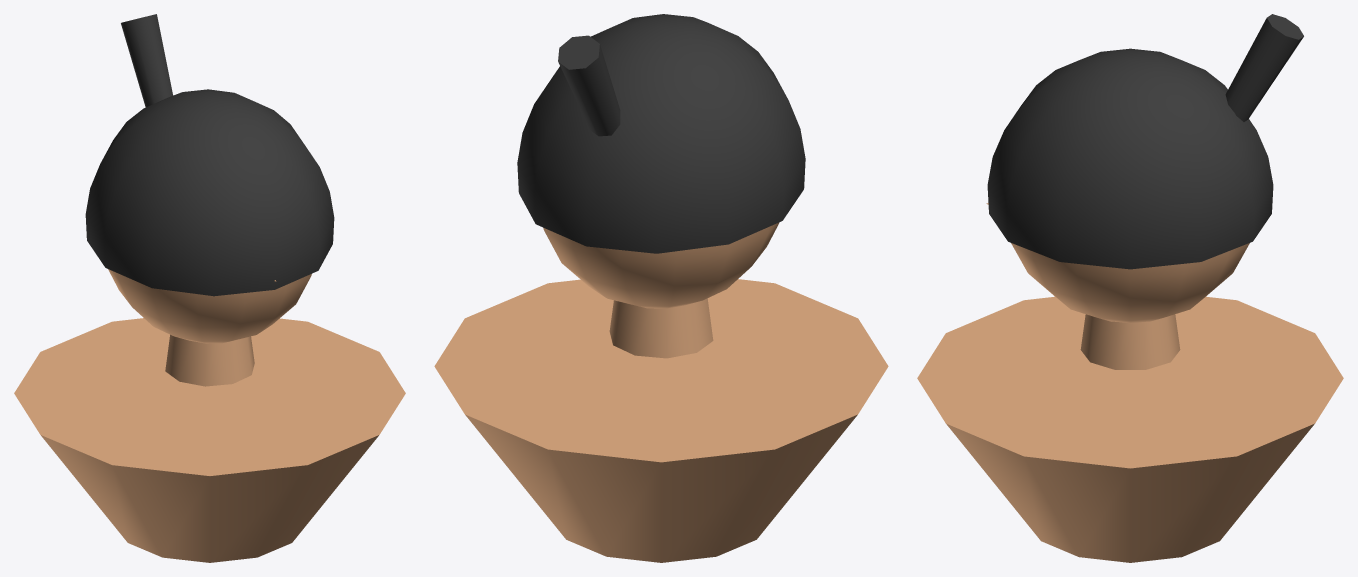
Rendered from raw_002.glb.
3 views of the same model, side by side, from view 1: azimuth 30°, elevation 25°; view 2: azimuth 150°, elevation 25°; view 3: azimuth 270°, elevation 25° (orthographic). The views are drawn at different scales.
Size of the model in its own units: 1.8 by 2.33 by 1.8.
